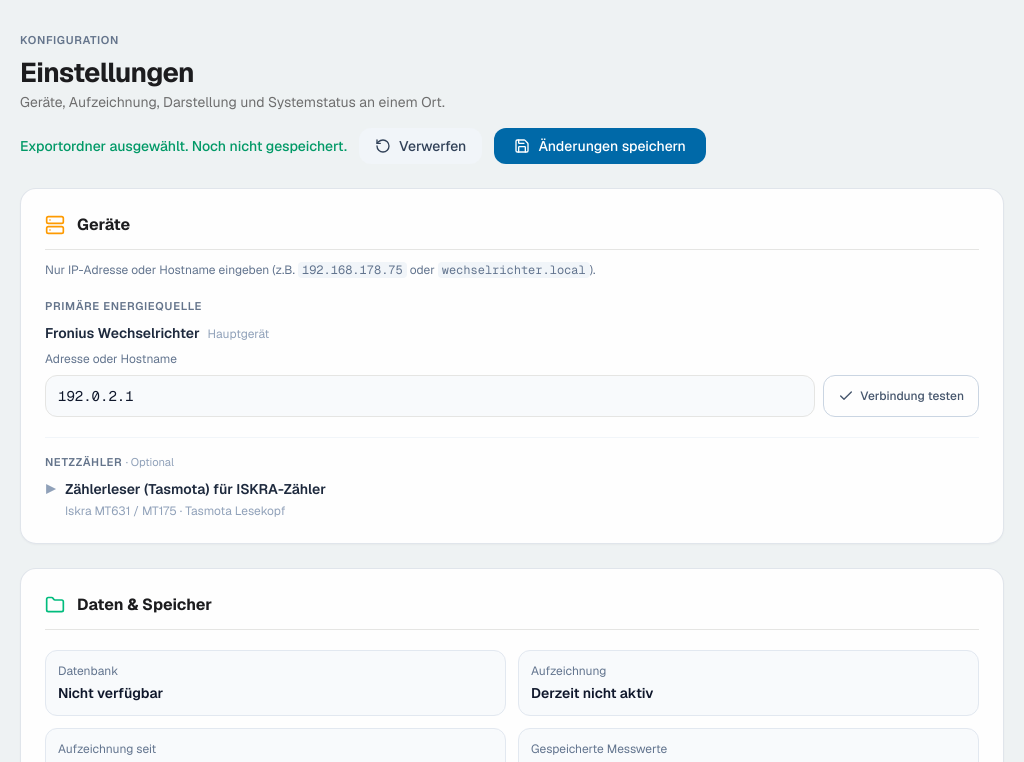
Scenario: SettingsView - persisted dirty state › discard restores the persisted export folder after a selection
Click the button "Verwerfen" at {"x": 421, "y": 146}, box [359,128,482,164]
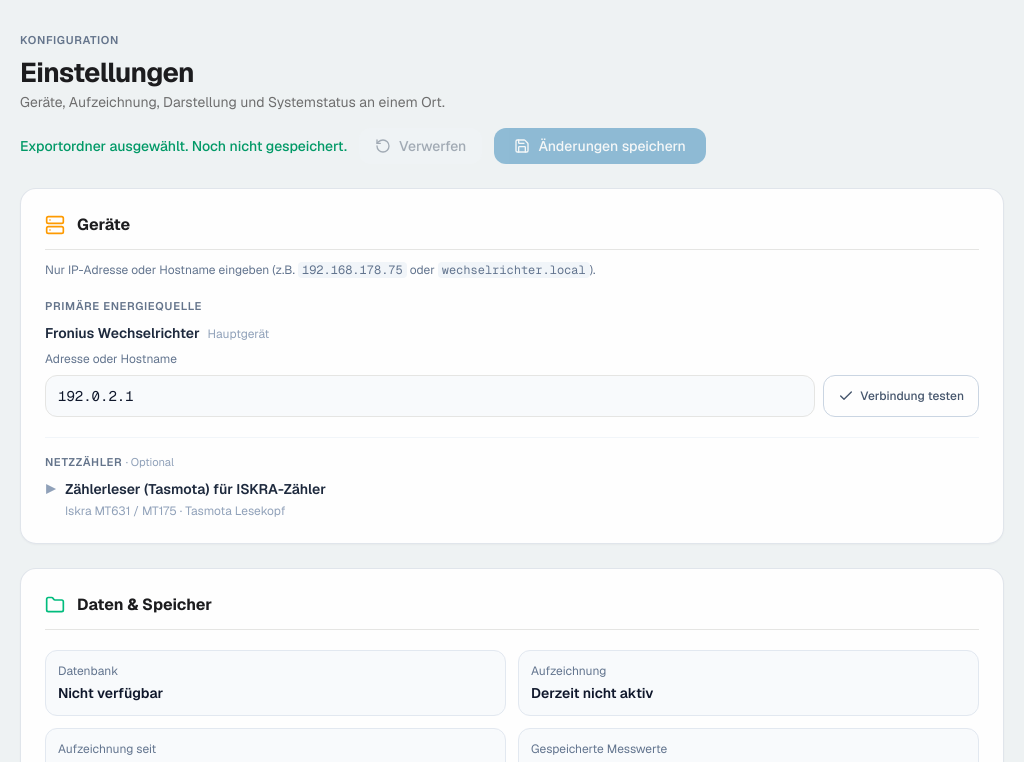
Check: the button "Änderungen speichern" is disabled, box [494,128,706,164]
